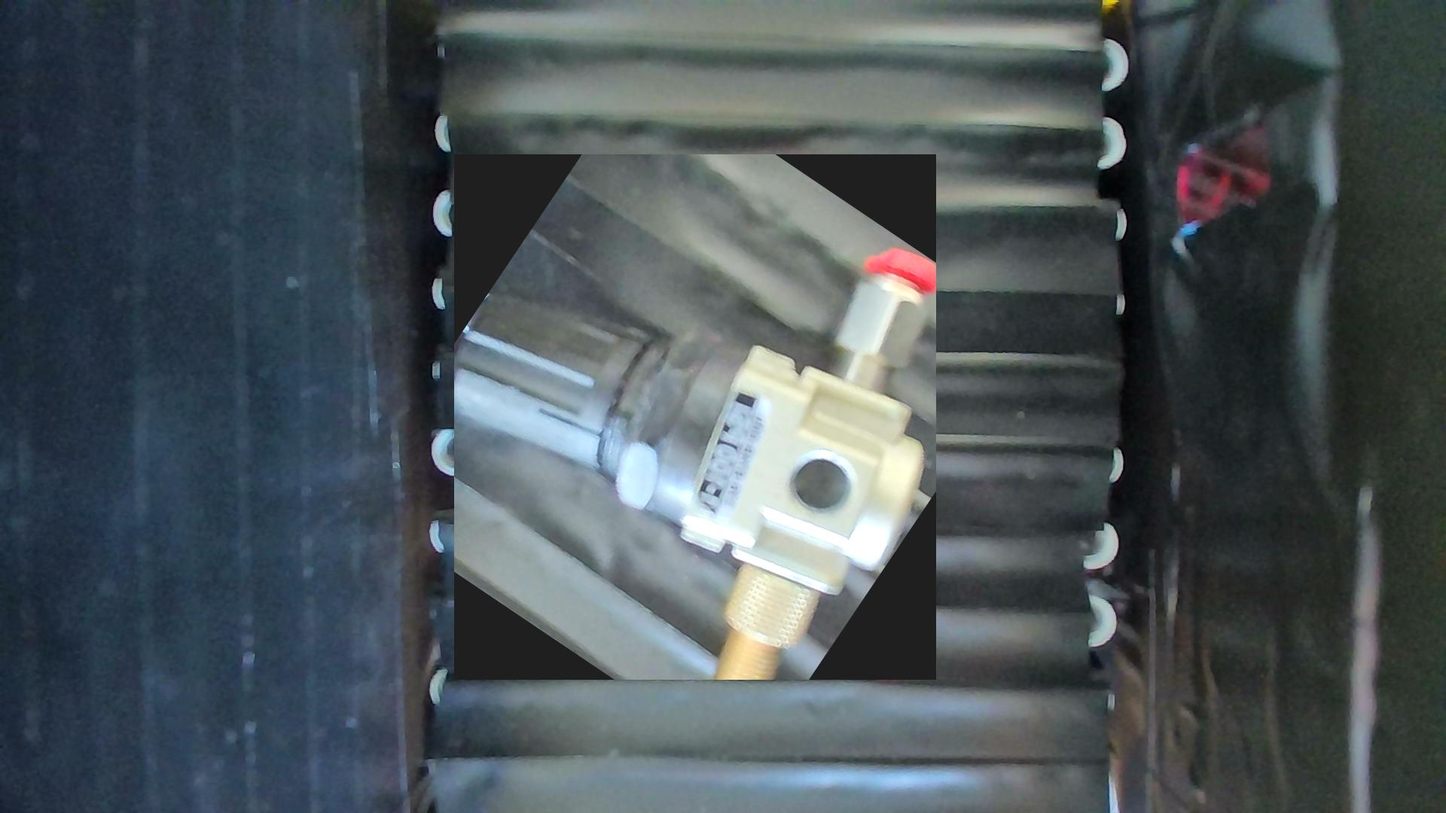regulator: (454, 154, 936, 680)
